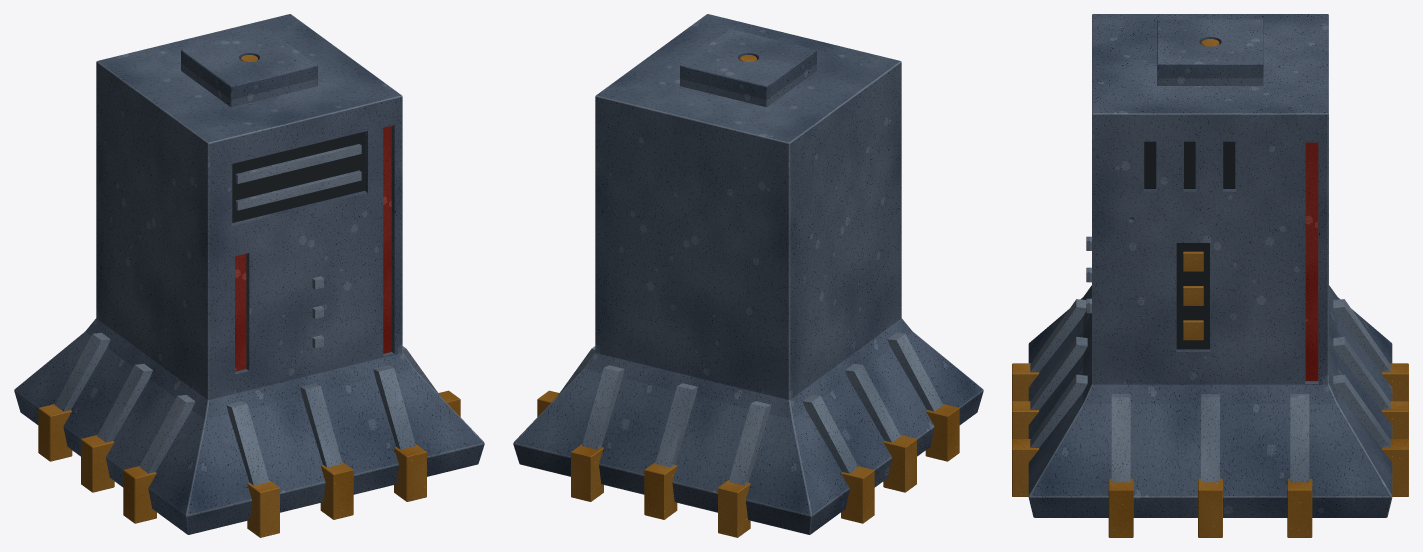
3 renders of one model, left to right at view 1: azimuth 30°, elevation 25°; view 2: azimuth 150°, elevation 25°; view 3: azimuth 270°, elevation 25°, orthographic. The views are drawn at different scales.
Visible parts, largest first — view 1: Nutrition Block square tower and flared base, Nutrition Block twelve brass feet, Nutrition Block low square roof cap, Nutrition Block front vent backing, Nutrition Block three pale buttresses face 0, Nutrition Block three pale buttresses face 3, Nutrition Block near red strip, Nutrition Block pale vent slat 1, Nutrition Block pale vent slat 0, Nutrition Block short red strip; view 2: Nutrition Block square tower and flared base, Nutrition Block twelve brass feet, Nutrition Block low square roof cap, Nutrition Block three pale buttresses face 2, Nutrition Block three pale buttresses face 3; view 3: Nutrition Block square tower and flared base, Nutrition Block twelve brass feet, Nutrition Block low square roof cap, Nutrition Block three pale buttresses face 1, Nutrition Block three pale buttresses face 2, Nutrition Block three pale buttresses face 0, Nutrition Block far red strip, Nutrition Block amber stack backing, Nutrition Block upper dark slot 0, Nutrition Block upper dark slot 2, Nutrition Block upper dark slot 1.
Boxes of the visible parts, x1,y1,x2,y2 form: Nutrition Block square tower and flared base: [14, 14, 484, 534]; Nutrition Block twelve brass feet: [38, 390, 460, 537]; Nutrition Block low square roof cap: [181, 29, 317, 107]; Nutrition Block front vent backing: [232, 131, 364, 222]; Nutrition Block three pale buttresses face 0: [226, 365, 415, 485]; Nutrition Block three pale buttresses face 3: [55, 332, 195, 473]; Nutrition Block near red strip: [383, 126, 391, 353]; Nutrition Block pale vent slat 1: [235, 144, 361, 183]; Nutrition Block pale vent slat 0: [235, 170, 361, 210]; Nutrition Block short red strip: [235, 253, 246, 371]; Nutrition Block square tower and flared base: [513, 14, 983, 534]; Nutrition Block twelve brass feet: [537, 390, 959, 537]; Nutrition Block low square roof cap: [680, 29, 816, 107]; Nutrition Block three pale buttresses face 2: [582, 365, 771, 485]; Nutrition Block three pale buttresses face 3: [802, 332, 942, 473]; Nutrition Block square tower and flared base: [1028, 14, 1392, 517]; Nutrition Block twelve brass feet: [1012, 363, 1408, 537]; Nutrition Block low square roof cap: [1157, 19, 1263, 85]; Nutrition Block three pale buttresses face 1: [1111, 394, 1309, 482]; Nutrition Block three pale buttresses face 2: [1333, 299, 1390, 447]; Nutrition Block three pale buttresses face 0: [1030, 299, 1087, 447]; Nutrition Block far red strip: [1305, 142, 1318, 380]; Nutrition Block amber stack backing: [1176, 243, 1209, 349]; Nutrition Block upper dark slot 0: [1144, 141, 1156, 188]; Nutrition Block upper dark slot 2: [1223, 141, 1235, 188]; Nutrition Block upper dark slot 1: [1184, 141, 1195, 188].
Bounding box in the file's own units: 2.31 × 2.65 × 2.31.
5 materials, 4 textured.
